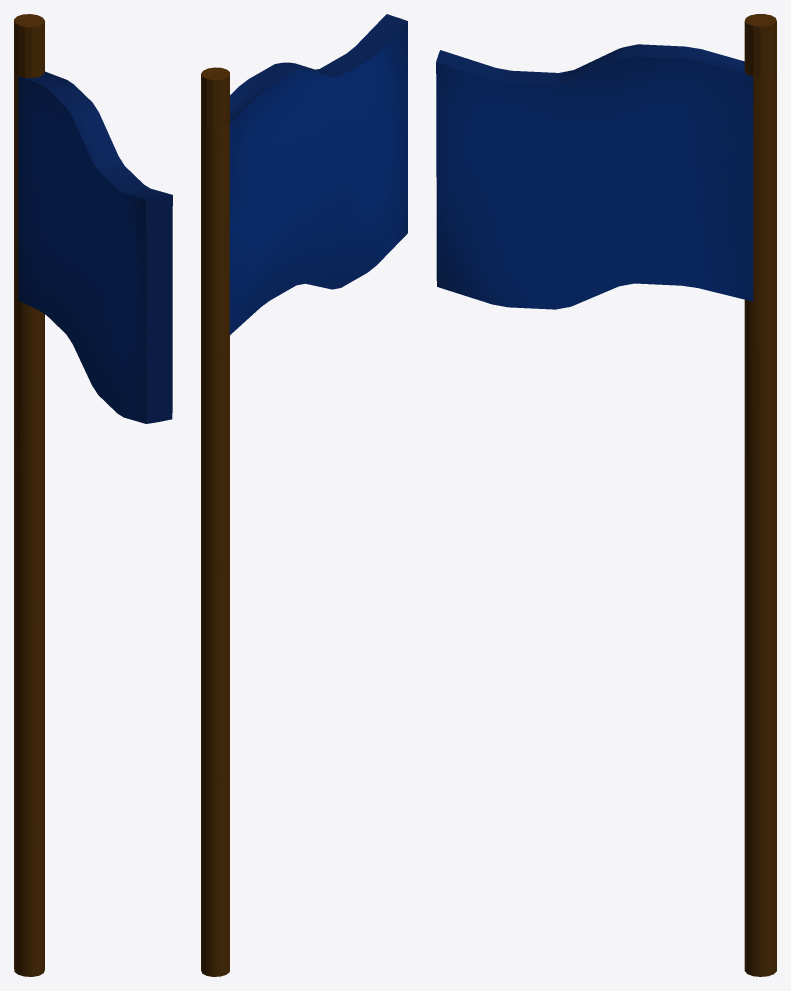
The model's file is banderaAzul.FBX.
3 views of the same model, side by side, from view 1: azimuth 30°, elevation 25°; view 2: azimuth 150°, elevation 25°; view 3: azimuth 270°, elevation 25° (orthographic). The views are drawn at different scales.
Parts seen in each view (by area): view 1: Cylinder001; view 2: Cylinder001; view 3: Cylinder001.
Part boxes in pixels (x1,y1,x2,y2): Cylinder001: [14, 14, 172, 976]; Cylinder001: [201, 14, 407, 976]; Cylinder001: [436, 14, 776, 976].
Size of the model in its own units: 4.3 by 68.87 by 22.38.
